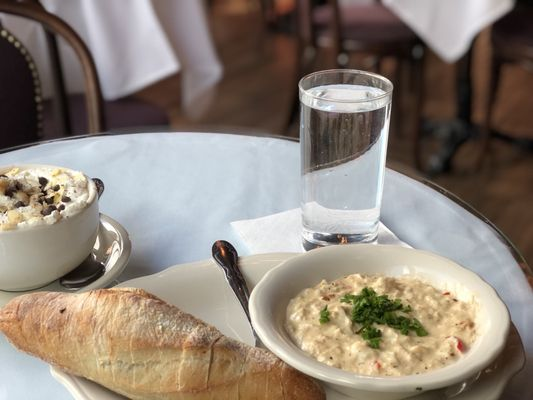curry: (347, 287, 427, 347)
pizza: (298, 69, 394, 251)
salad: (212, 240, 257, 348)
sushi: (248, 244, 514, 400)
